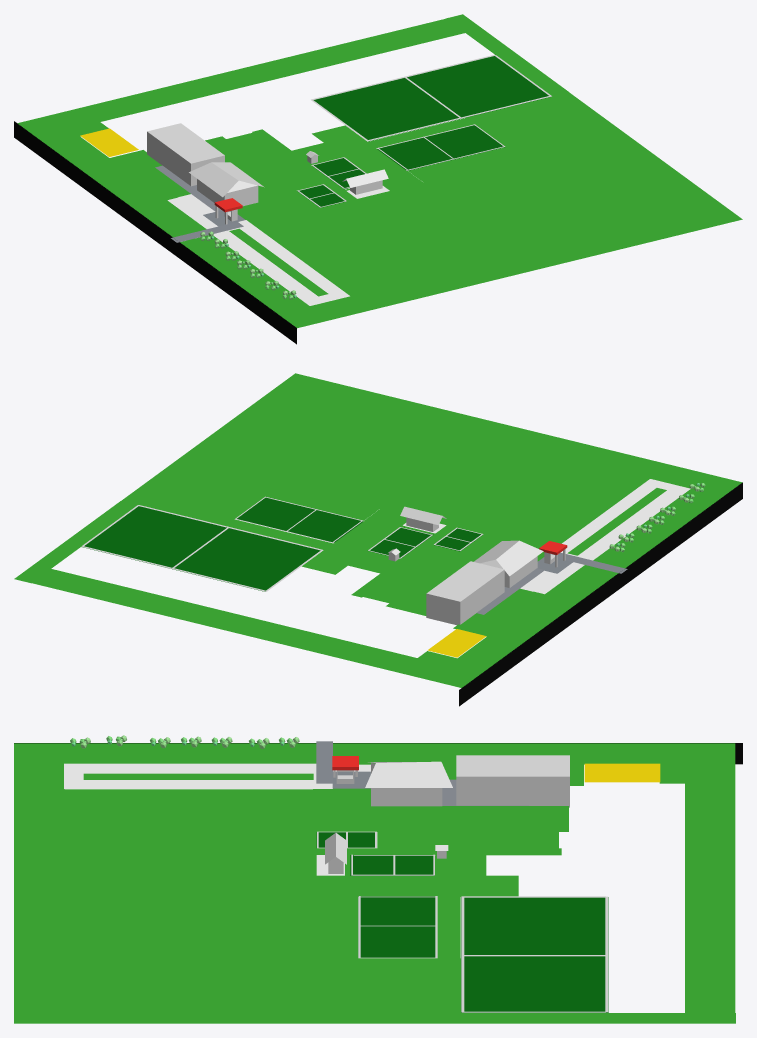
The model's file is field.glb.
3 views of the same model, one above another, from view 1: azimuth 30°, elevation 25°; view 2: azimuth 150°, elevation 25°; view 3: azimuth 270°, elevation 25° (orthographic). The views are drawn at different scales.
Visible parts, largest first — view 1: Plane.147, Plane.138, Plane.132, Cube.012, Plane.095, Plane.094, Plane.188, Cube.016, Plane.037, Plane.029, Cube.007, Plane.054 (+114 smaller); view 2: Plane.147, Plane.138, Cube.012, Plane.132, Plane.095, Plane.094, Plane.190, Cube.016, Plane.037, Plane.029, Plane.080, Plane.054 (+106 smaller); view 3: Plane.147, Cube.012, Plane.094, Plane.132, Plane.095, Plane.188, Cube.016, Plane.080, Plane.037, Plane.029, Plane.054, Plane.190 (+122 smaller).
Boxes of the visible parts, x1,y1,x2,y2 form: Plane.147: (313, 56, 551, 141); Plane.138: (14, 121, 296, 344); Plane.132: (377, 125, 504, 170); Cube.012: (147, 123, 224, 186); Plane.095: (226, 132, 322, 190); Plane.094: (205, 136, 299, 202); Plane.188: (476, 36, 568, 96); Cube.016: (189, 162, 264, 197); Plane.037: (252, 129, 357, 201); Plane.029: (229, 228, 328, 296); Cube.007: (197, 179, 258, 206); Plane.054: (80, 128, 138, 156); Plane.147: (82, 506, 320, 591); Plane.138: (459, 482, 742, 706); Cube.012: (426, 561, 504, 625); Plane.132: (237, 497, 363, 542); Plane.095: (363, 545, 459, 603); Plane.094: (386, 548, 484, 615); Plane.190: (14, 523, 106, 583); Cube.016: (474, 540, 543, 576); Plane.037: (351, 525, 457, 597); Plane.029: (567, 488, 666, 555); Plane.080: (369, 527, 433, 558); Plane.054: (427, 629, 486, 657); Plane.147: (461, 897, 608, 1012); Cube.012: (456, 755, 569, 807); Plane.094: (367, 800, 568, 831); Plane.132: (358, 896, 435, 957); Plane.095: (377, 831, 558, 848); Plane.188: (461, 1013, 657, 1023); Cube.016: (365, 761, 452, 787); Plane.080: (350, 855, 434, 875); Plane.037: (315, 848, 561, 855); Plane.029: (83, 773, 313, 779); Plane.054: (584, 763, 660, 782); Plane.190: (540, 1013, 735, 1023).
Bounding box in the file's own units: 265 × 23.27 × 289.
